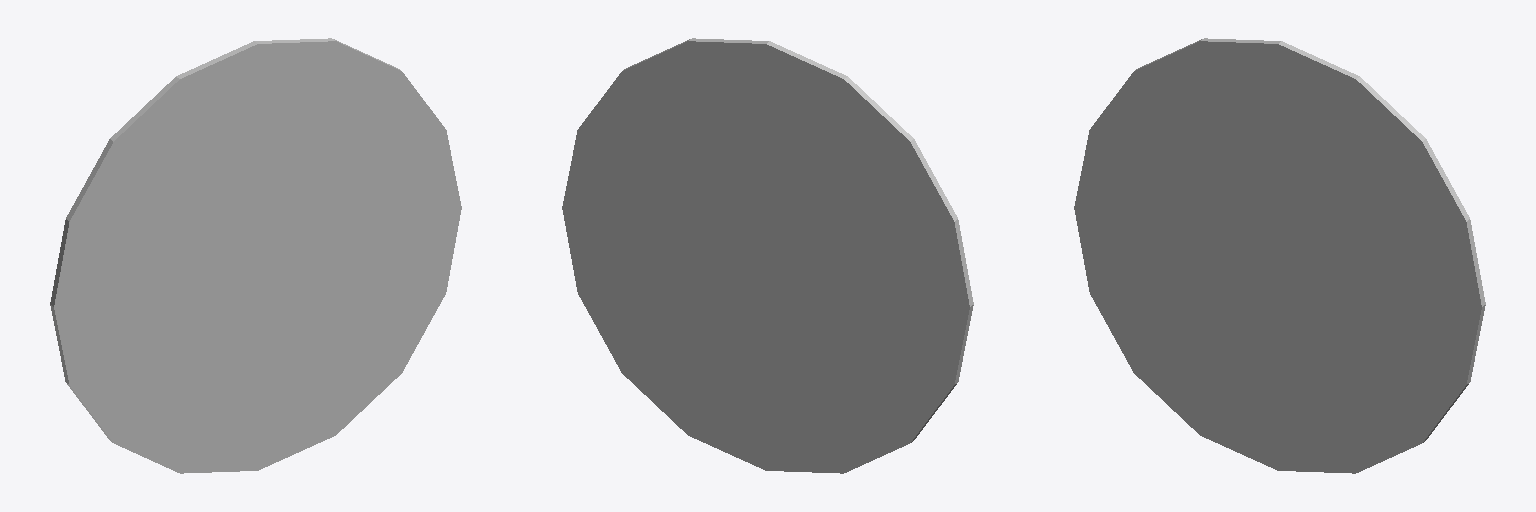
File: target_green3.obj
3 views of the same model, side by side, from view 1: azimuth 30°, elevation 25°; view 2: azimuth 150°, elevation 25°; view 3: azimuth 330°, elevation 25° (orthographic).
Bounding box in the file's own units: 0.06 × 0.06 × 0.001.